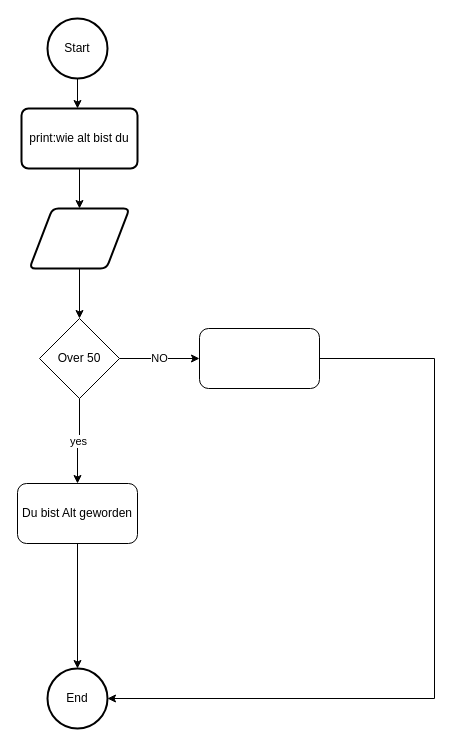
This 460x746 diagram has some shape labels left out. The centre of each missing label's shape, as x and y in pixels:
"Aha. eines Tages wirst du auch Alt!" goes at point 259,358.
"i nput" goes at point 79,238.
